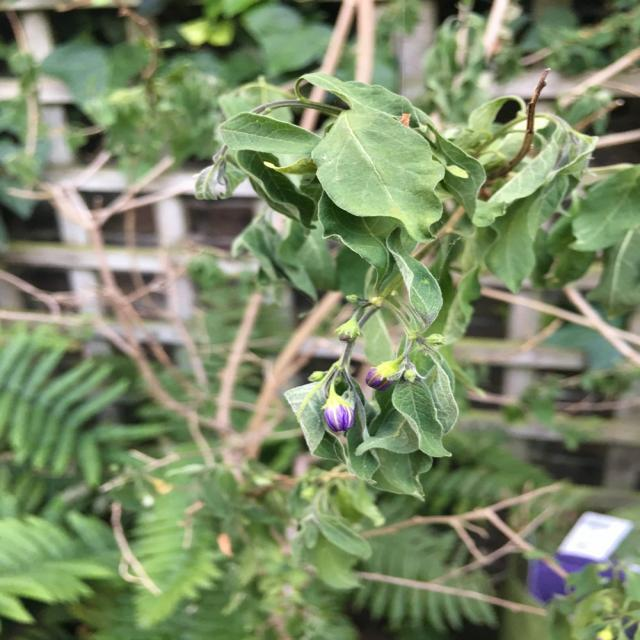Poisonous-Deadly_Nightshade: (186, 71, 579, 270), (263, 224, 480, 571)
